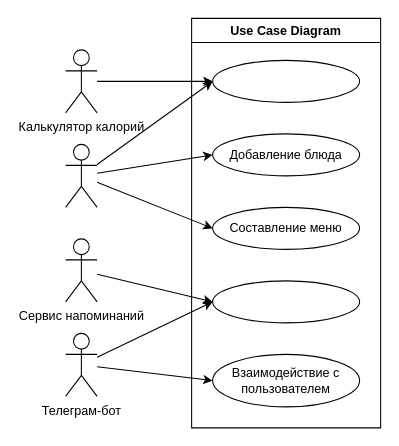
Image size: 399x446. Some labels were removed from this diagram. The shapes that lost their labels are listed below. From the top down, each one's box as (x1, y1, x2, y2) in pixels, then its label:
(212, 59, 360, 102): Расчёт калорий
(65, 143, 97, 207): Пользователь
(212, 280, 360, 323): Напоминание о еде
